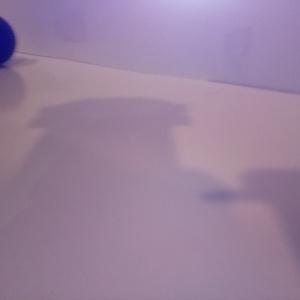dead_ball: (1, 18, 16, 64)
